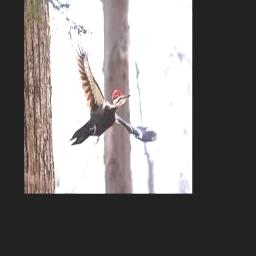Woodpecker: (70, 35, 158, 145)
